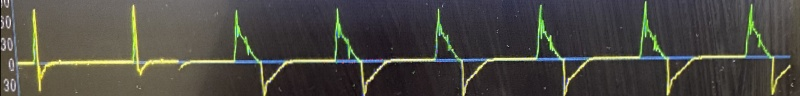hydrop_flow: (216, 0, 782, 96)
